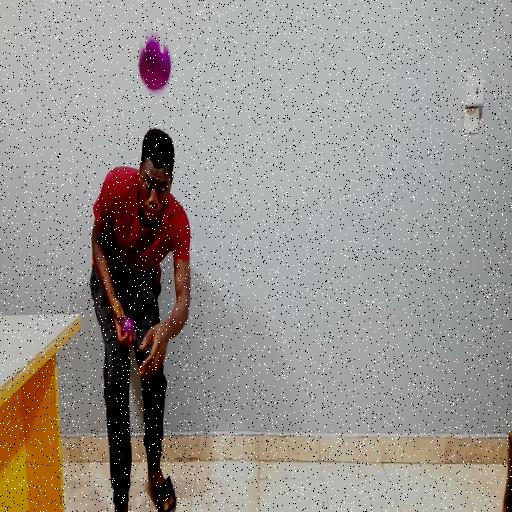plastic-ball: (138, 37, 169, 91)
